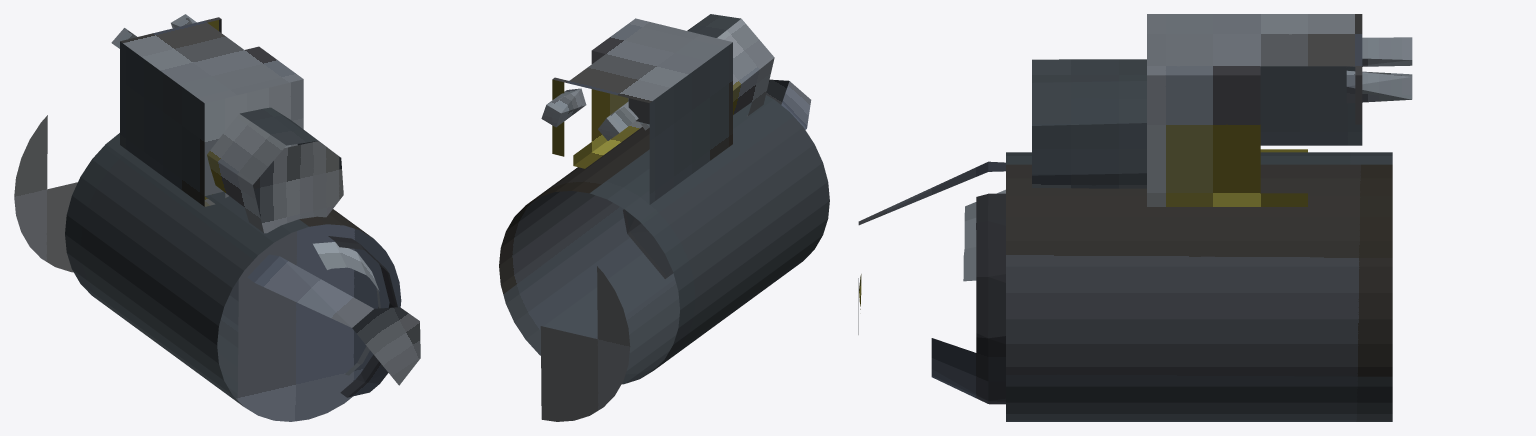
The model's file is starter.fbx.
3 views of the same model, side by side, from view 1: azimuth 30°, elevation 25°; view 2: azimuth 150°, elevation 25°; view 3: azimuth 270°, elevation 25° (orthographic). The views are drawn at different scales.
Visible parts, largest first — view 1: starter; view 2: starter; view 3: starter.
Part boxes in pixels (x1,y1,x2,y2): starter: (14, 14, 420, 421); starter: (499, 14, 829, 421); starter: (858, 14, 1412, 421).
Size of the model in its own units: 0.0811 by 0.121 by 0.1992.
